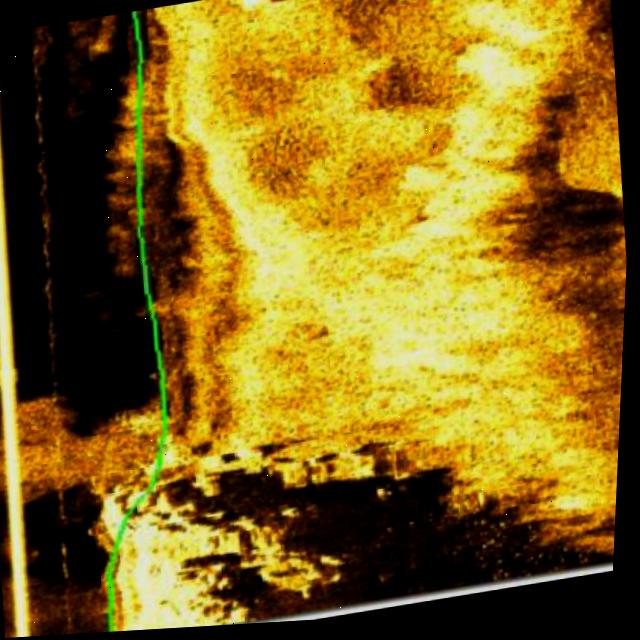bedrock group: (92, 418, 447, 635)
